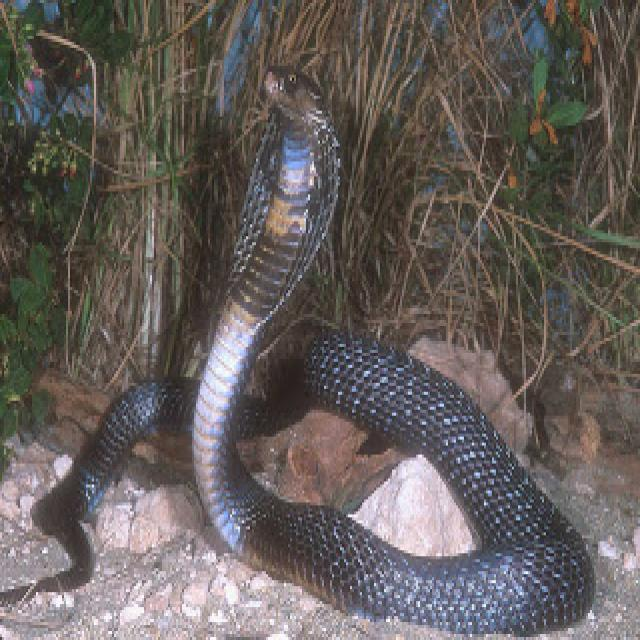Snake: (0, 60, 596, 637)
